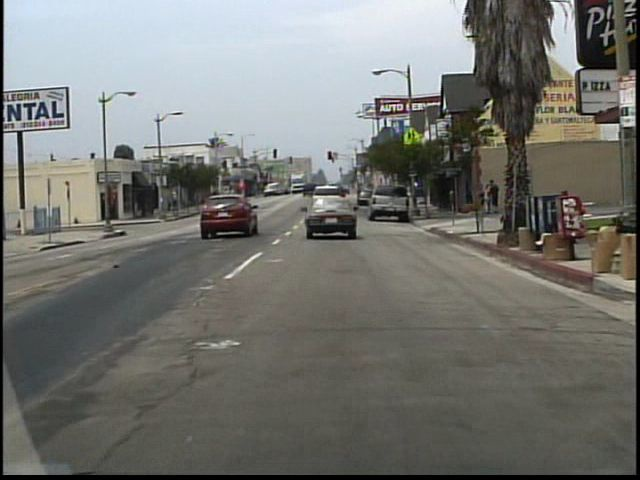person: (489, 179, 500, 216), (479, 183, 491, 214)
